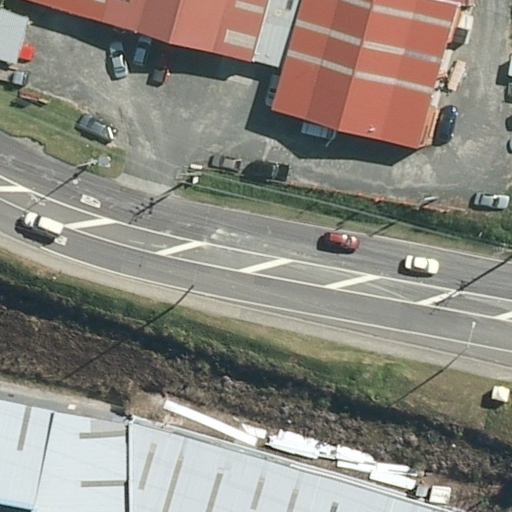DT: (173, 164, 208, 187)
